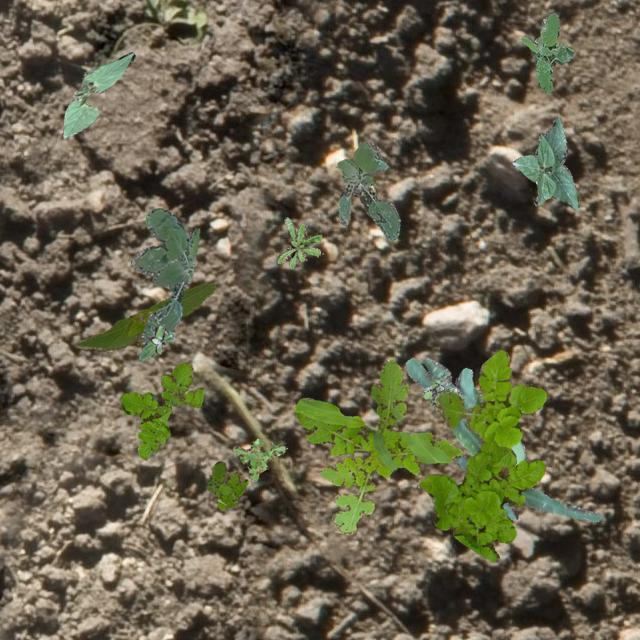crop: (405, 357, 601, 520), (76, 282, 214, 350), (512, 114, 578, 210), (62, 52, 134, 136)
weed: (294, 358, 462, 534), (416, 348, 546, 562), (130, 208, 198, 342), (119, 362, 202, 458), (334, 140, 398, 238), (520, 12, 572, 92), (276, 216, 321, 268), (232, 438, 284, 480), (205, 460, 248, 508), (138, 320, 174, 360), (422, 372, 456, 406)
